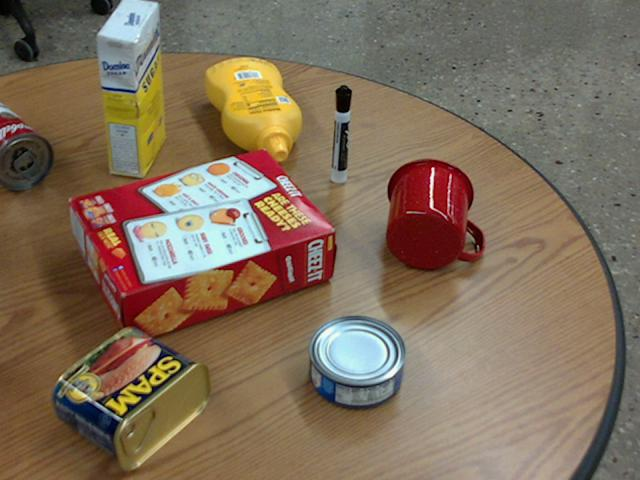cracker_box: (72, 150, 335, 343)
large_marker: (332, 84, 351, 181)
mug: (387, 157, 485, 268)
mustard_bottle: (205, 58, 301, 160)
potted_meat_can: (50, 326, 208, 470)
sugar_box: (97, 0, 165, 177)
tomato_soup_can: (0, 101, 53, 188)
tuna_fish_can: (308, 315, 405, 408)
